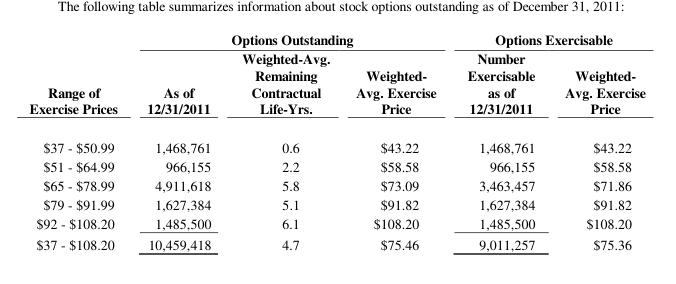table: (28, 29, 644, 252)
table column: (225, 29, 342, 252), (342, 29, 451, 252), (28, 29, 131, 252), (451, 29, 549, 252), (549, 29, 644, 252), (131, 29, 225, 252)
table column header: (28, 29, 644, 127)
table row: (28, 48, 644, 127), (28, 127, 644, 155), (28, 155, 644, 175), (28, 213, 644, 233), (28, 29, 644, 48), (28, 175, 644, 194), (28, 194, 644, 213), (28, 233, 644, 252)
table spanning cell: (28, 29, 131, 127), (131, 29, 451, 48), (451, 29, 644, 48)
